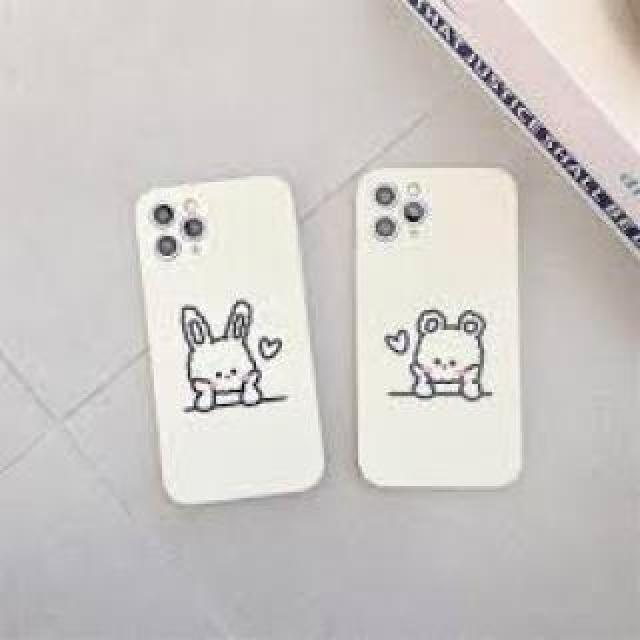smart phone: (121, 135, 322, 545), (348, 148, 554, 494)
